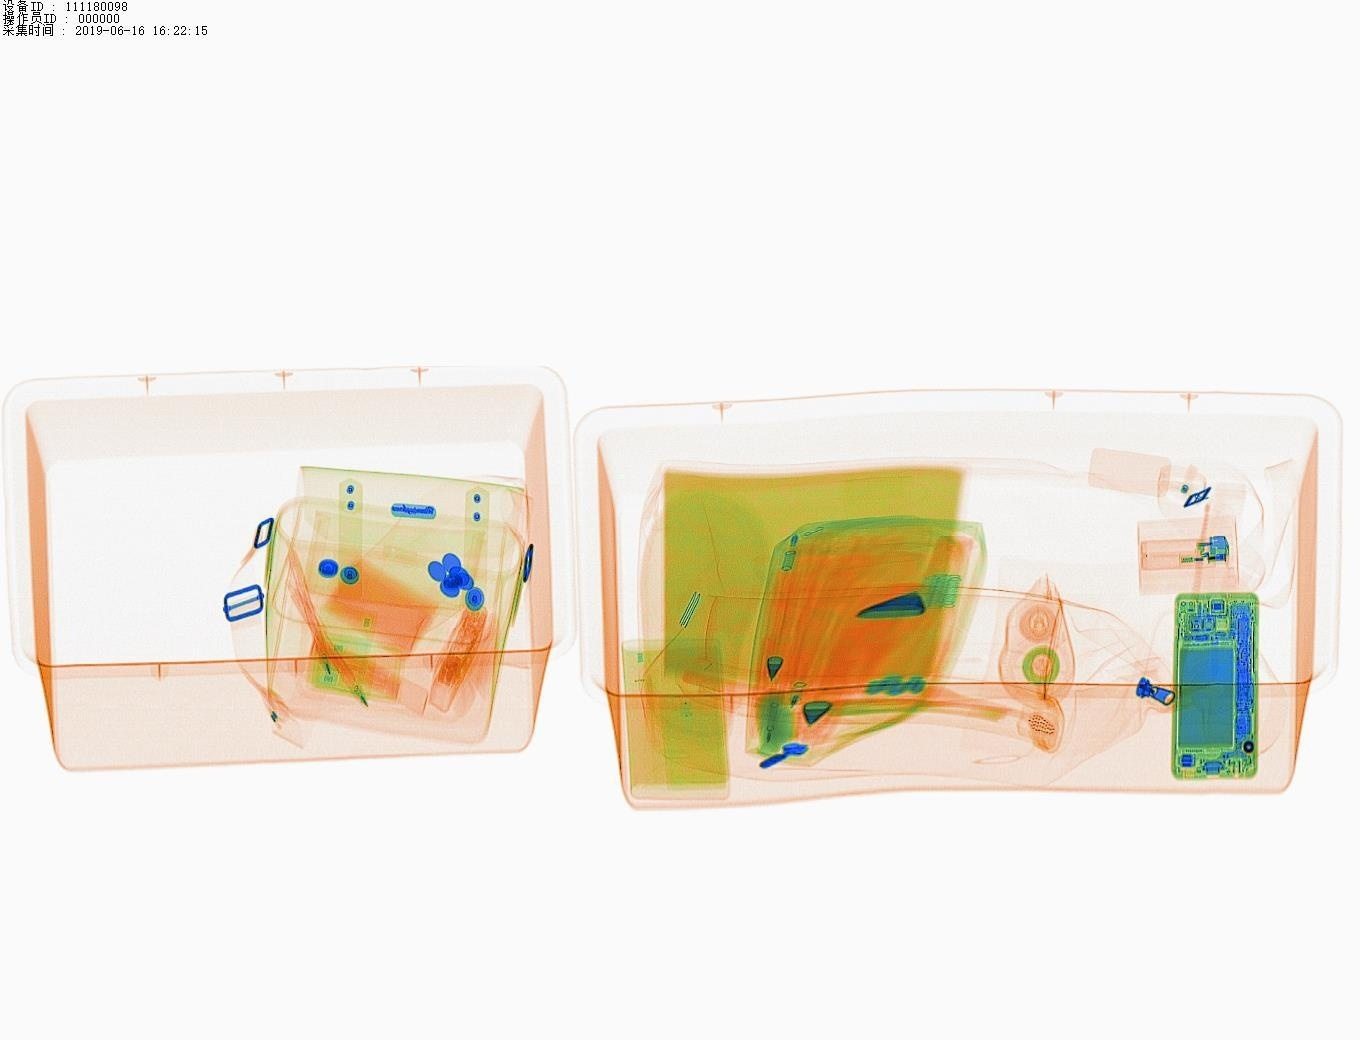NonmetallicFire: (1135, 520, 1246, 580)
